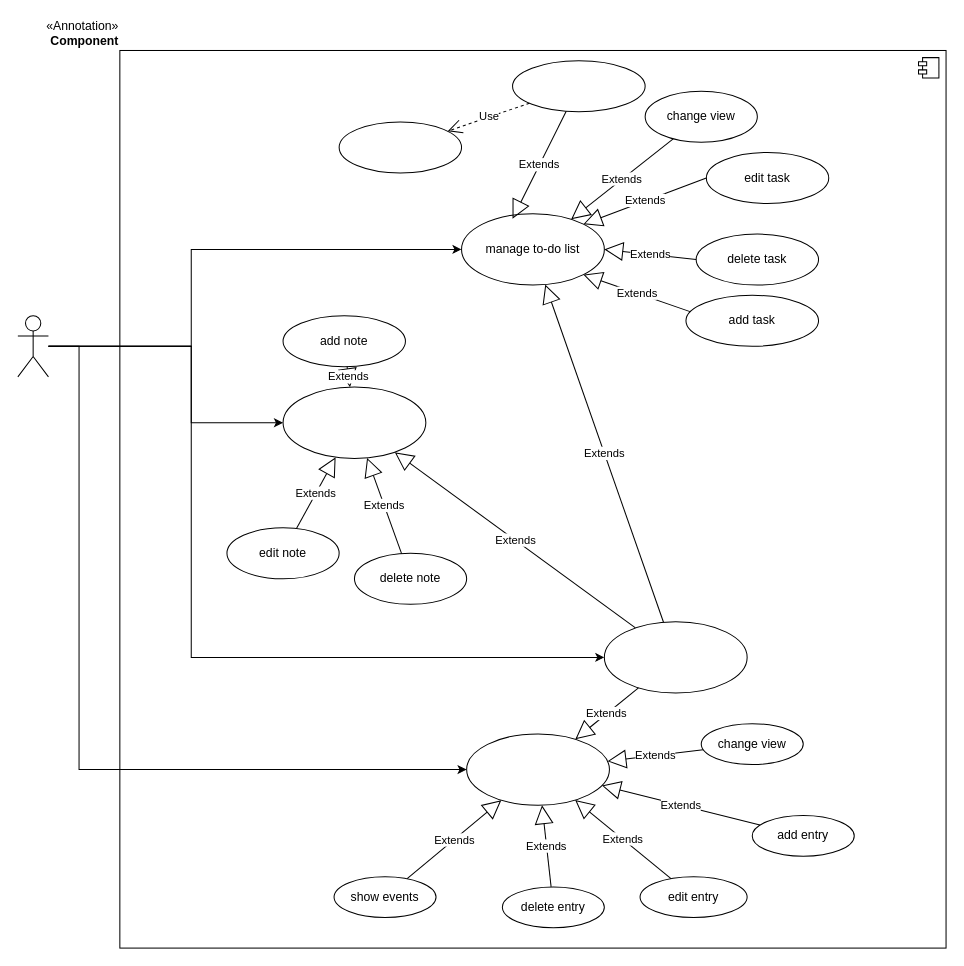
The diagram is 964 pixels wide and 966 high, and some of its shapes have lost their labels. Here are the shapes that lost their labels. From the top down, the centre of each, then its label:
At [578,86]: "finish task".
At [400,147]: "archive task".
At [32,346]: "Actor".
At [354,422]: "manage notes".
At [675,657]: "cloud synchronisation".
At [537,769]: "manage calendar".
